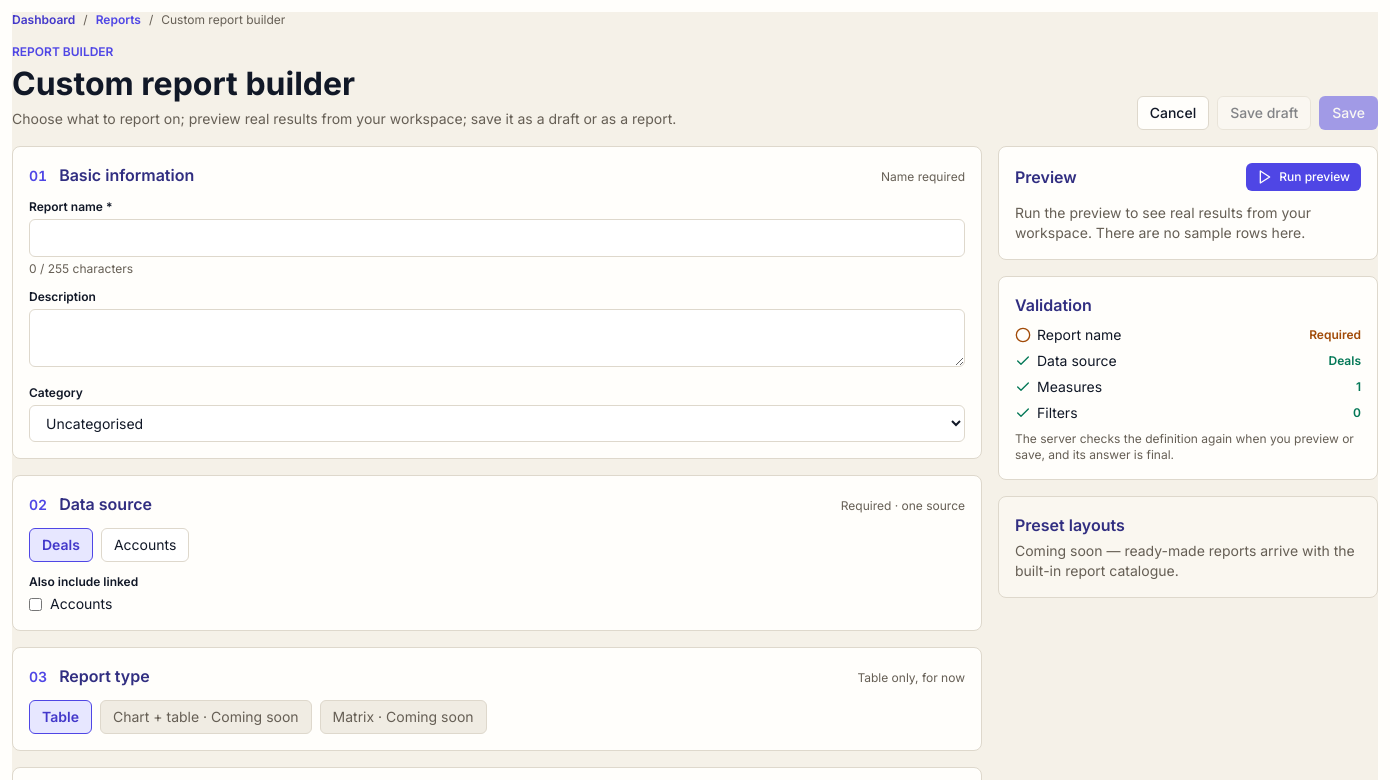
Test: saving, and drafts › "Save draft" stores a DRAFT and says "Saved as draft" only after the 2xx
Expected: the element named "Data source" is shown, 29,528 -> 189,562
Type "Pipeline by source" into the field labelled "Report name *" at (497, 238), box 29,219 -> 965,257
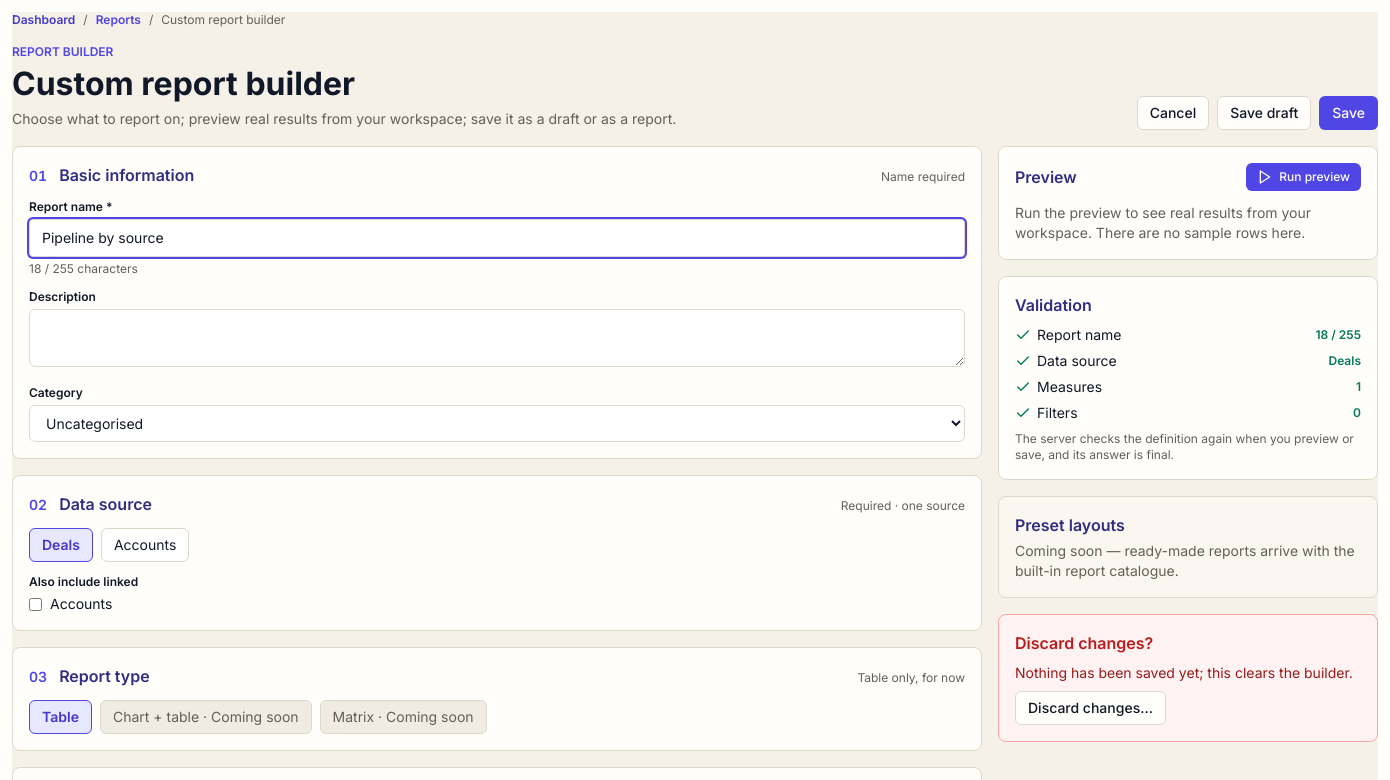
Click the button "Save draft" at (1264, 113), box 1217,96 -> 1311,130
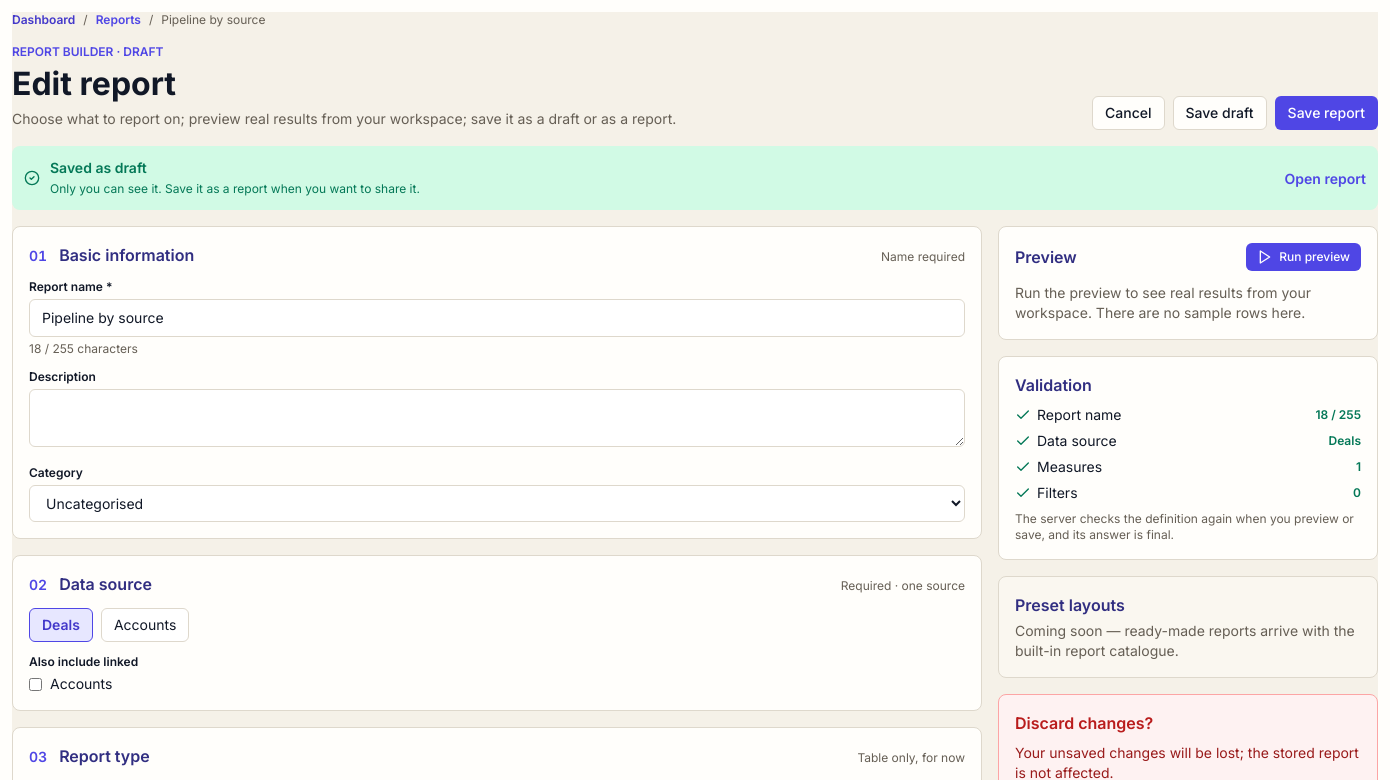
Result: the text "Saved as draft" is shown at 50,159 -> 147,176
Result: the element with test id "save-result" shows "Only you can see it" at 50,181 -> 420,196
